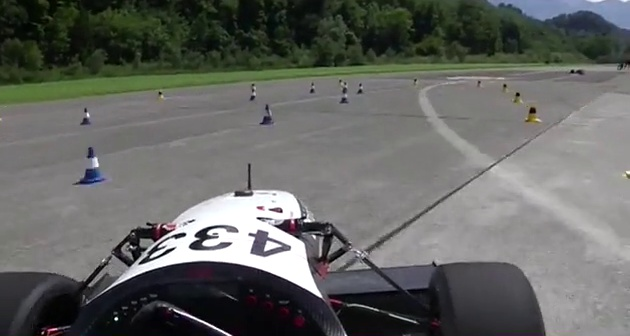Cone: (78, 145, 107, 187), (258, 102, 279, 126), (525, 100, 545, 123), (81, 107, 92, 127)
